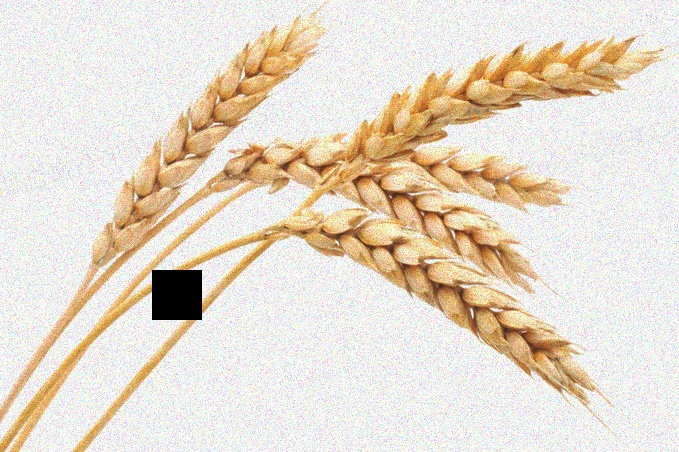wheat: (73, 12, 317, 297), (296, 26, 665, 212), (266, 213, 601, 408)
